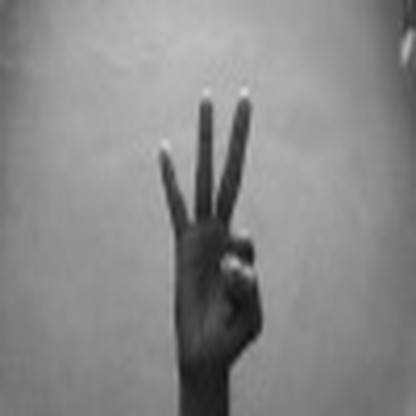f: (141, 85, 277, 377)
